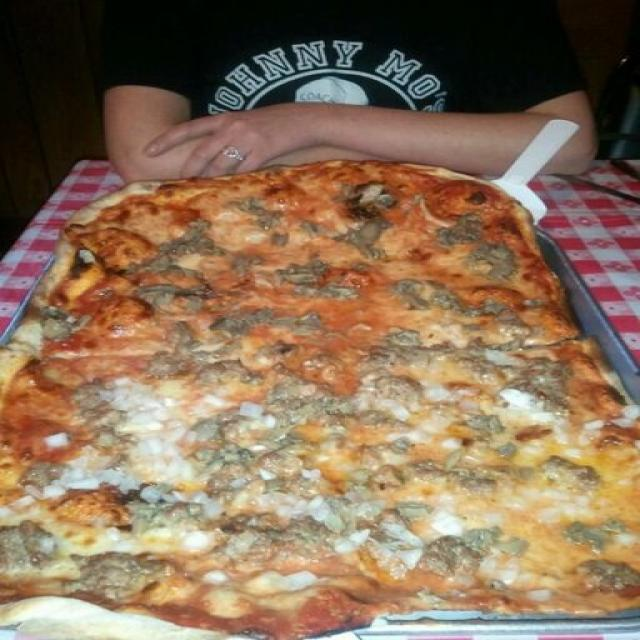Beef: (418, 452, 528, 492), (232, 512, 324, 556), (71, 551, 158, 594), (270, 364, 330, 415), (306, 221, 387, 252), (508, 358, 569, 398), (460, 523, 522, 561), (0, 529, 55, 569), (403, 278, 463, 313), (568, 517, 628, 552), (366, 343, 473, 362), (165, 222, 226, 255), (425, 539, 479, 576), (336, 397, 399, 426), (346, 181, 396, 217), (130, 482, 178, 518), (255, 306, 318, 333), (583, 560, 640, 589), (474, 246, 523, 279), (312, 497, 358, 532), (142, 283, 206, 307), (137, 253, 200, 277), (200, 358, 257, 384), (274, 420, 315, 455), (543, 456, 596, 483), (197, 446, 256, 468), (438, 216, 486, 242), (377, 371, 422, 398), (238, 198, 282, 225), (364, 438, 412, 462), (151, 352, 195, 375), (42, 312, 78, 340), (298, 284, 355, 300), (258, 472, 292, 497), (214, 312, 249, 336), (473, 336, 533, 350), (68, 381, 104, 404), (372, 468, 406, 492), (280, 260, 324, 278), (27, 466, 60, 488), (466, 416, 504, 434), (500, 320, 540, 337), (191, 420, 224, 440), (389, 326, 421, 346), (470, 301, 508, 317), (259, 342, 289, 362), (234, 254, 261, 276), (173, 327, 201, 348), (97, 407, 124, 428), (344, 468, 372, 488), (398, 503, 435, 518), (90, 434, 123, 447), (499, 441, 516, 458), (522, 299, 542, 307)
Pizza: (0, 160, 640, 638)
